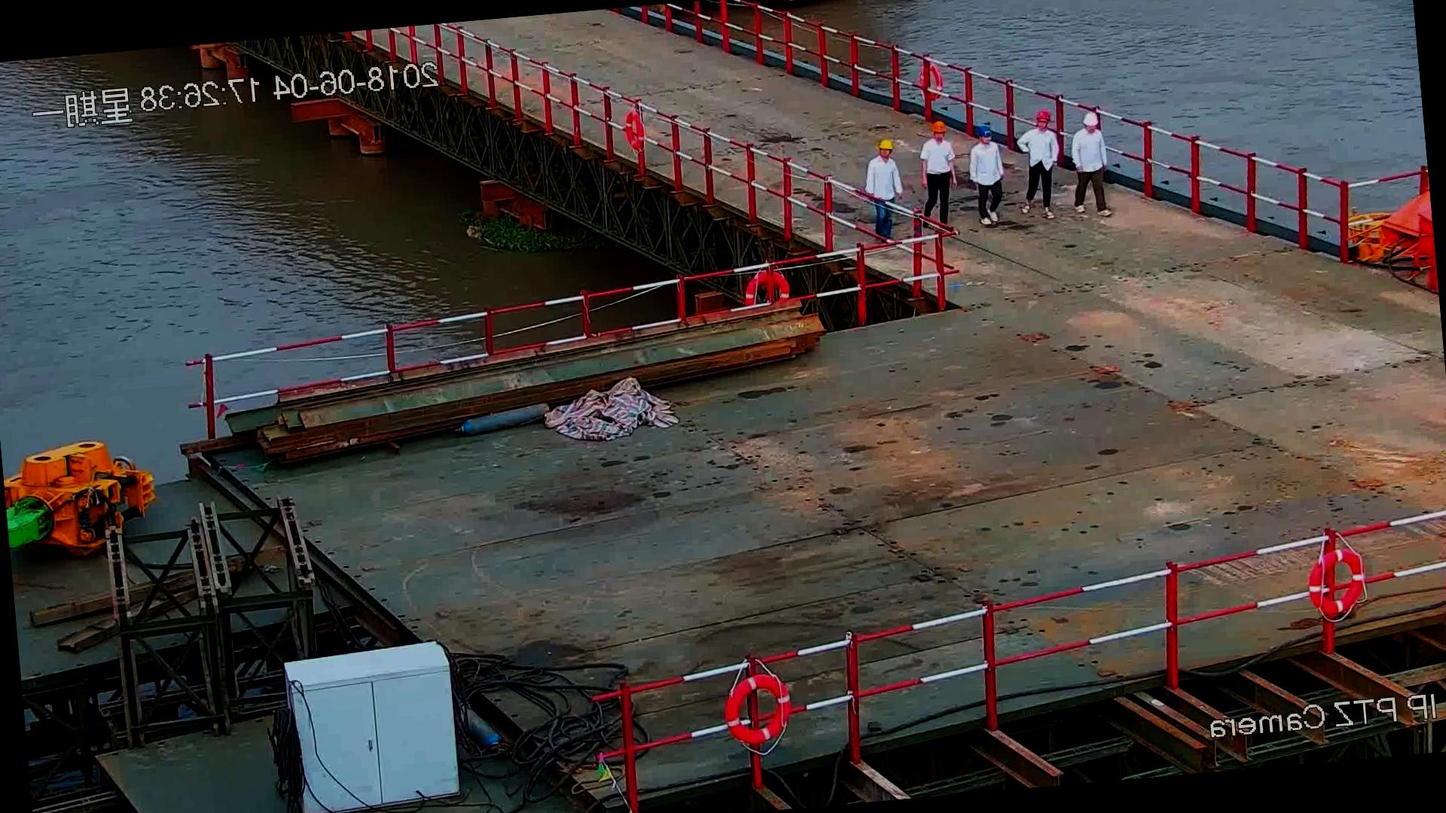helmet: (926, 119, 953, 136), (975, 125, 996, 144), (1080, 112, 1100, 129), (878, 137, 897, 153)
no_vest: (862, 152, 906, 203), (917, 136, 960, 187), (1020, 126, 1060, 172), (1071, 127, 1109, 175), (966, 140, 1004, 187)
person: (908, 117, 966, 235), (1009, 107, 1066, 222), (854, 134, 915, 240), (1062, 110, 1120, 221), (962, 119, 1009, 232)
